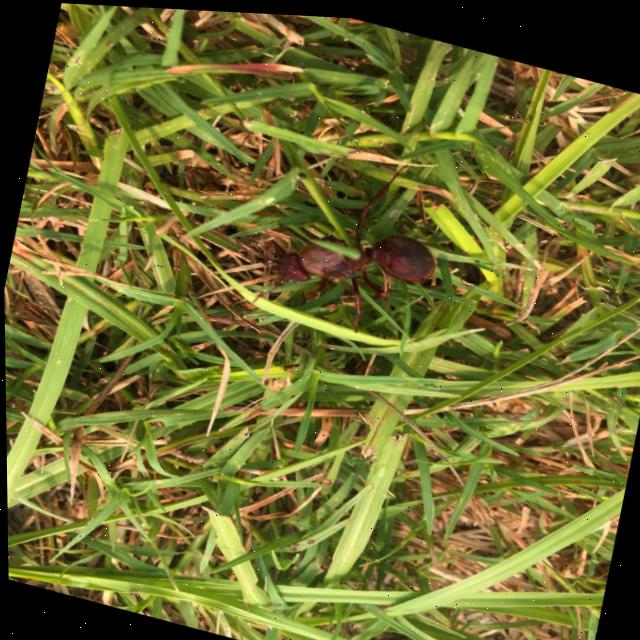Alive-Female-Dealate: (220, 120, 460, 348)
